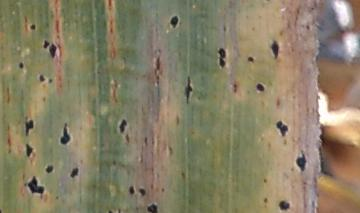tarspot: (24, 175, 46, 198), (273, 116, 291, 141), (57, 119, 72, 148), (214, 44, 229, 73), (293, 147, 308, 175), (267, 38, 283, 63), (182, 73, 194, 106), (20, 115, 37, 138), (164, 12, 183, 32), (45, 39, 60, 62), (275, 196, 292, 213), (115, 118, 131, 134), (22, 141, 36, 159), (253, 79, 268, 95), (34, 71, 50, 86), (67, 165, 82, 179), (243, 51, 256, 66), (15, 59, 29, 72), (39, 37, 52, 51), (145, 201, 160, 213), (28, 20, 39, 36), (43, 163, 57, 175), (136, 186, 150, 198), (127, 182, 136, 198)
